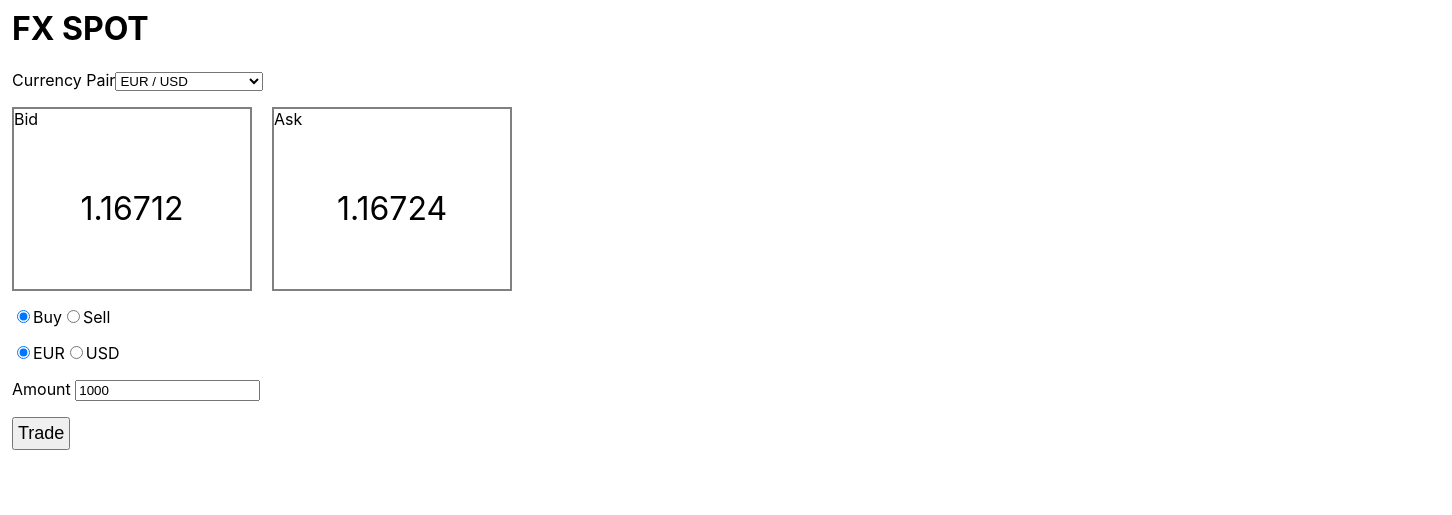
Scenario: deepEqual tests › should allow a buy trade to be placed and display appropriate message according to the currency selected
Select "USD / CHF" in the dropdown with test id "currency-dropdown" at (189, 81), box [115,72,263,91]
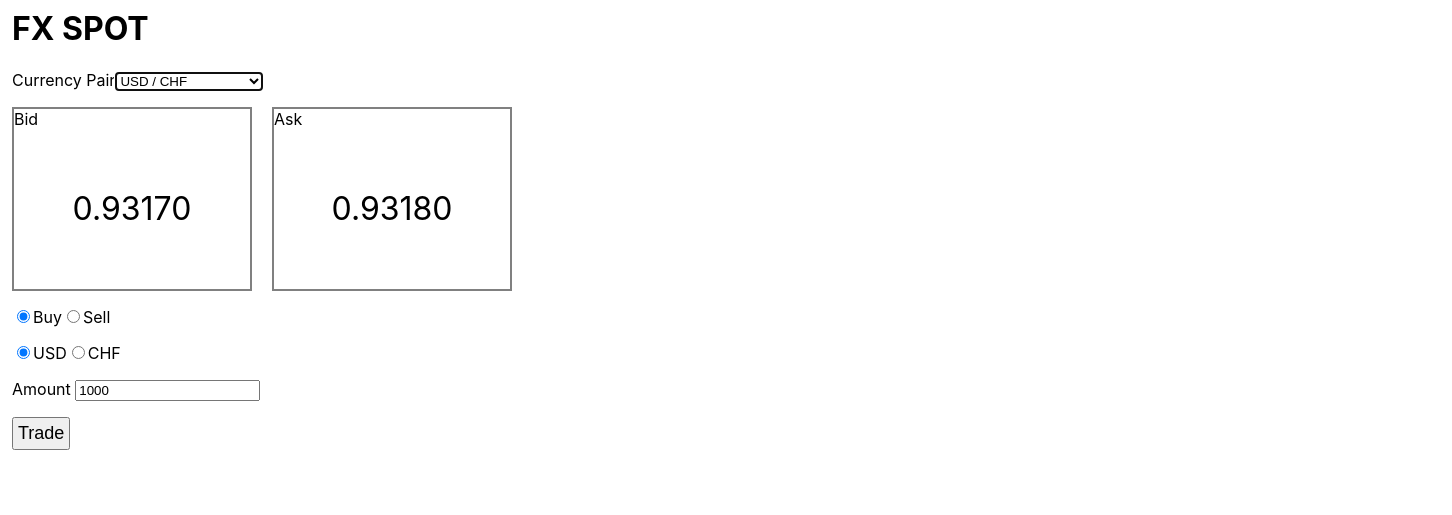
Click the button with test id "trade-button" at (41, 433), box [12,417,70,450]
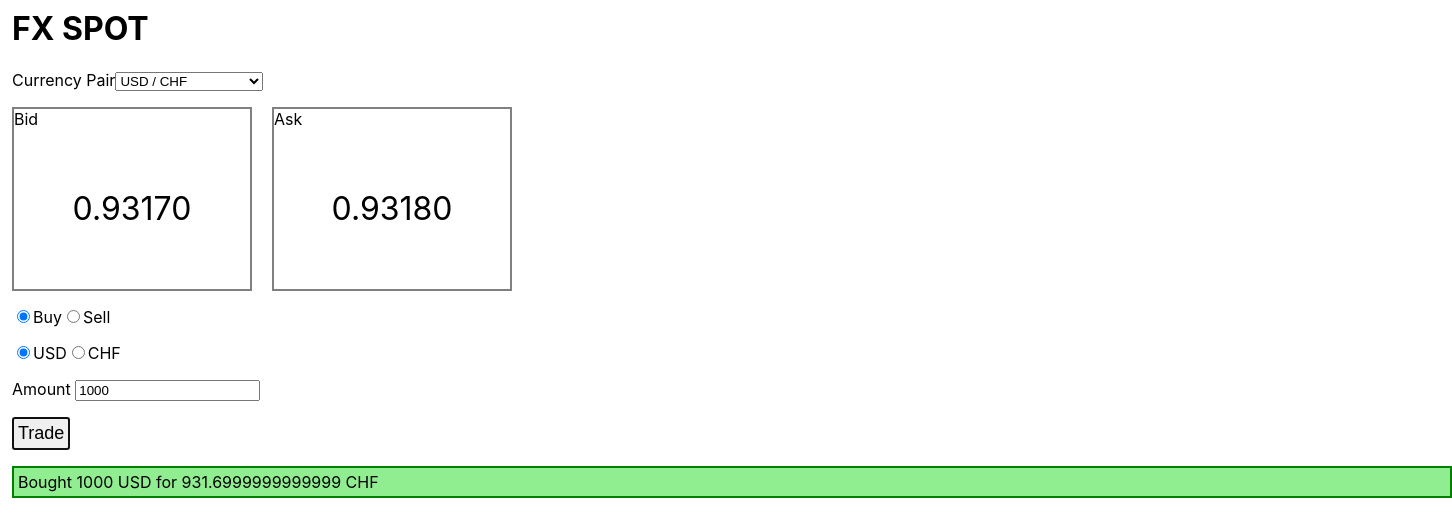
Expected: the text "Bought 1000 USD for 931.6999999999999 CHF" is shown, [12,466,1451,498]
